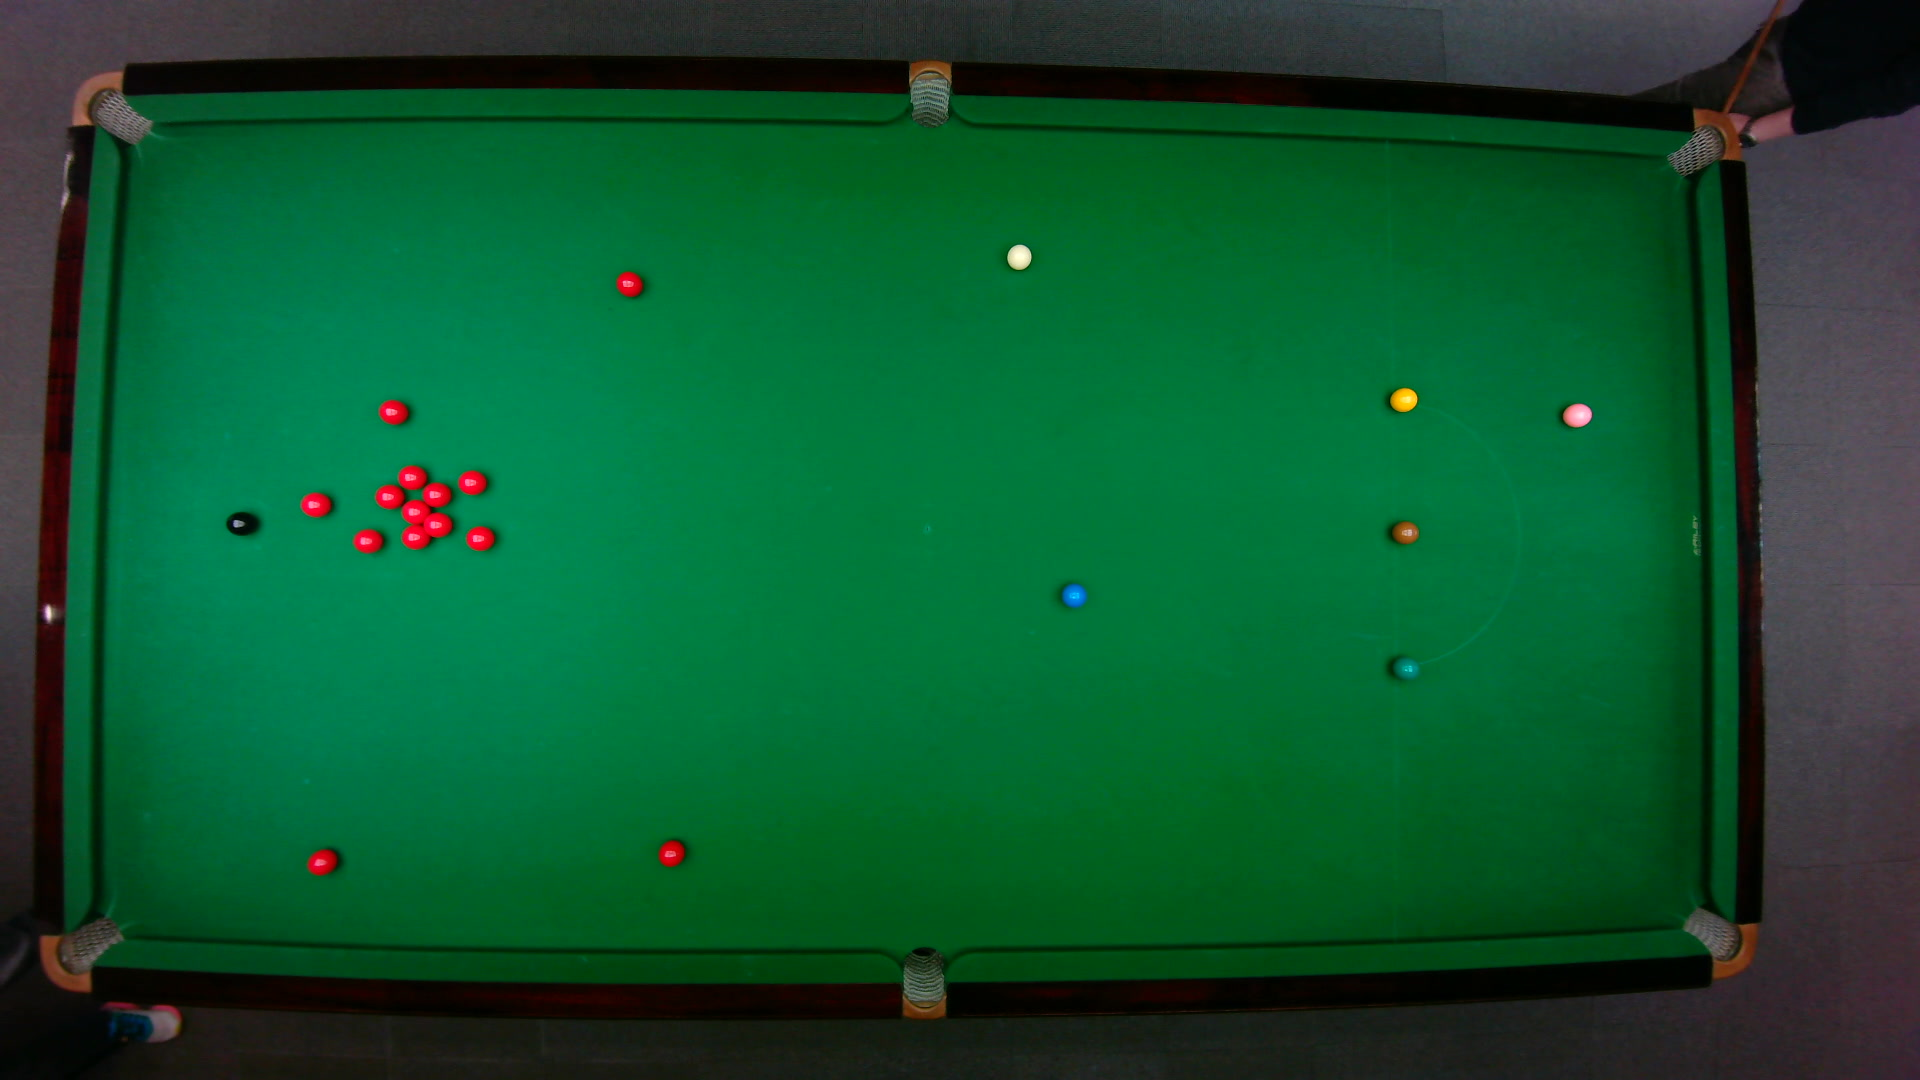bag: (37, 913, 125, 992), (69, 69, 152, 145), (1680, 905, 1758, 980), (1663, 107, 1745, 178), (901, 945, 947, 1021), (909, 58, 953, 129)
black: (224, 510, 258, 537)
blue: (1059, 582, 1089, 609)
brown: (1390, 520, 1422, 546)
green: (1389, 654, 1422, 682)
pink: (1560, 401, 1596, 430)
red: (305, 847, 340, 878), (351, 526, 386, 556), (298, 491, 335, 520), (655, 837, 688, 869), (373, 483, 407, 512), (419, 480, 454, 509), (377, 398, 411, 427), (396, 463, 430, 492), (422, 510, 454, 541), (400, 524, 433, 553), (456, 468, 489, 497), (464, 524, 497, 553), (615, 269, 645, 299), (400, 497, 433, 524)
white: (1005, 243, 1033, 272)
yellow: (1387, 385, 1420, 414)
zone: (1389, 401, 1520, 666)
